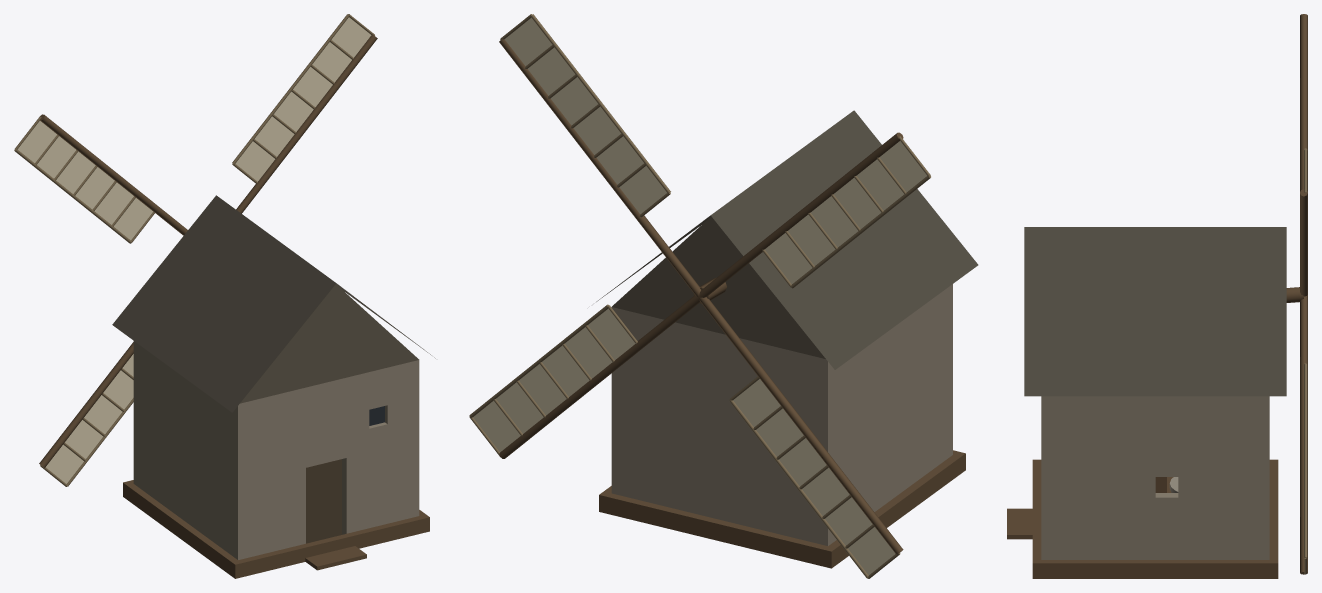
The model's file is mlyn.glb.
3 renders of one model, left to right at view 1: azimuth 30°, elevation 25°; view 2: azimuth 150°, elevation 25°; view 3: azimuth 270°, elevation 25°, orthographic. The views are drawn at different scales.
Parts seen in each view (by area): view 1: roof_w, wall_south (×3), wall_west, sail (×3), gable_s, stock (×3), wall_south_lintel (×2), pryzba_s, door, pryzba_w, wall_south_sill, wall_east (+3 smaller); view 2: wall_north, sail (×4), roof_w, wall_west, gable_n, stock (×4), pryzba_n, rail (×4), pryzba_w, wall_south, wall_east; view 3: roof_e, wall_east (×2), pryzba_e, stock (×3), wall_east_lintel, wall_south, wall_east_sill, pryzba_s, pryzba_n, plank, rail, wall_north.
Part boxes in pixels (left/top/right/bottom): roof_w: left=112, top=195, right=336, bottom=412; wall_south (×3): left=233, top=360, right=419, bottom=559; wall_west: left=133, top=344, right=247, bottom=559; sail (×3): left=17, top=17, right=371, bottom=483; gable_s: left=240, top=284, right=419, bottom=403; stock (×3): left=39, top=34, right=377, bottom=467; wall_south_lintel (×2): left=306, top=367, right=387, bottom=467; pryzba_s: left=231, top=514, right=429, bottom=578; door: left=306, top=459, right=341, bottom=543; pryzba_w: left=126, top=483, right=237, bottom=575; wall_south_sill: left=369, top=422, right=387, bottom=527; wall_east: left=410, top=360, right=419, bottom=517; wall_north: left=611, top=308, right=832, bottom=545; sail (×4): left=473, top=18, right=926, bottom=575; roof_w: left=711, top=110, right=978, bottom=369; wall_west: left=817, top=289, right=952, bottom=545; gable_n: left=612, top=216, right=825, bottom=358; stock (×4): left=499, top=39, right=903, bottom=554; pryzba_n: left=599, top=491, right=836, bottom=568; rail (×4): left=469, top=14, right=930, bottom=578; pryzba_w: left=828, top=455, right=961, bottom=564; wall_south: left=946, top=284, right=952, bottom=458; wall_east: left=611, top=307, right=621, bottom=494; roof_e: left=1024, top=227, right=1286, bottom=396; wall_east (×2): left=1041, top=396, right=1269, bottom=559; pryzba_e: left=1041, top=560, right=1269, bottom=578; stock (×3): left=1300, top=14, right=1307, bottom=574; wall_east_lintel: left=1155, top=396, right=1178, bottom=476; wall_south: left=1041, top=396, right=1052, bottom=559; wall_east_sill: left=1155, top=493, right=1178, bottom=559; pryzba_s: left=1032, top=459, right=1041, bottom=578; pryzba_n: left=1269, top=459, right=1278, bottom=578; plank: left=1007, top=508, right=1032, bottom=539; rail: left=1304, top=364, right=1307, bottom=557; wall_north: left=1258, top=396, right=1268, bottom=548.
Size of the model in its own units: 8.53 by 8.77 by 5.27.
